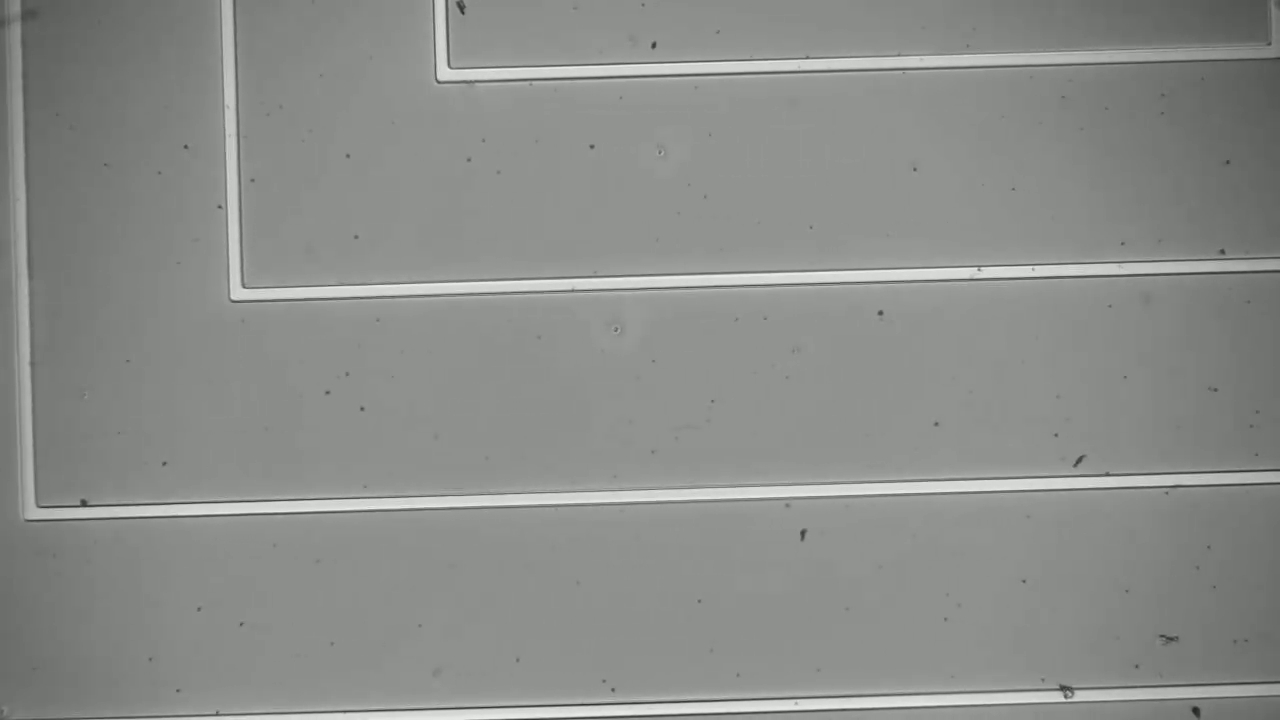stains_enbedded: (1054, 676, 1082, 707)
